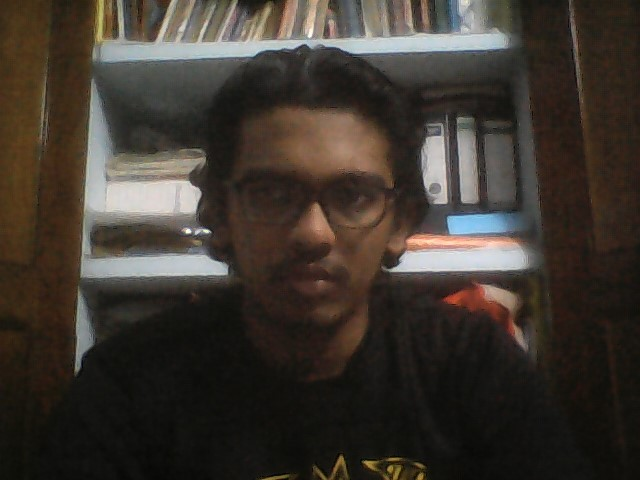person: (56, 47, 543, 476)
